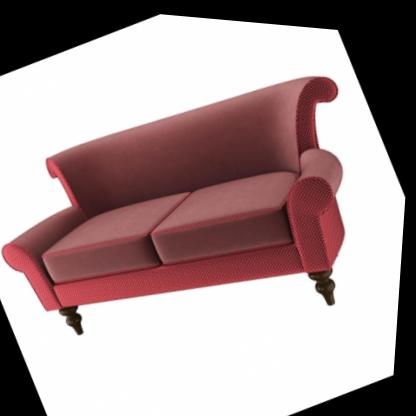Sofa: (0, 21, 415, 416)
